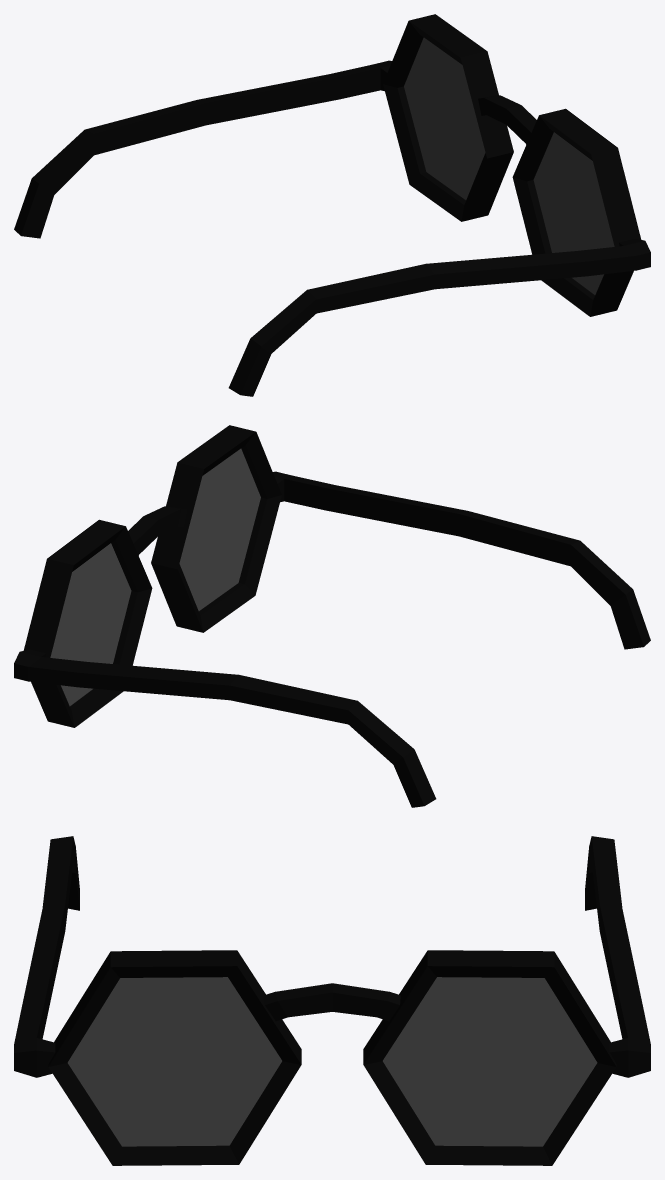
File: Broken_Eyeglasses.fbx
3 views of the same model, one above another, from view 1: azimuth 30°, elevation 25°; view 2: azimuth 150°, elevation 25°; view 3: azimuth 270°, elevation 25° (orthographic). The views are drawn at different scales.
Parts seen in each view (by area): view 1: Eyeglasses_Left, Eyeglasses_Right; view 2: Eyeglasses_Right, Eyeglasses_Left; view 3: Eyeglasses_Left, Eyeglasses_Right.
Part boxes in pixels (box(x1,y1,x2,y2)): Eyeglasses_Left: box(14, 14, 536, 238); Eyeglasses_Right: box(228, 108, 650, 396); Eyeglasses_Right: box(151, 425, 650, 649); Eyeglasses_Left: box(14, 506, 436, 807); Eyeglasses_Left: box(264, 836, 650, 1165); Eyeglasses_Right: box(14, 836, 301, 1165).
Size of the model in its own units: 128 by 50.09 by 145.
